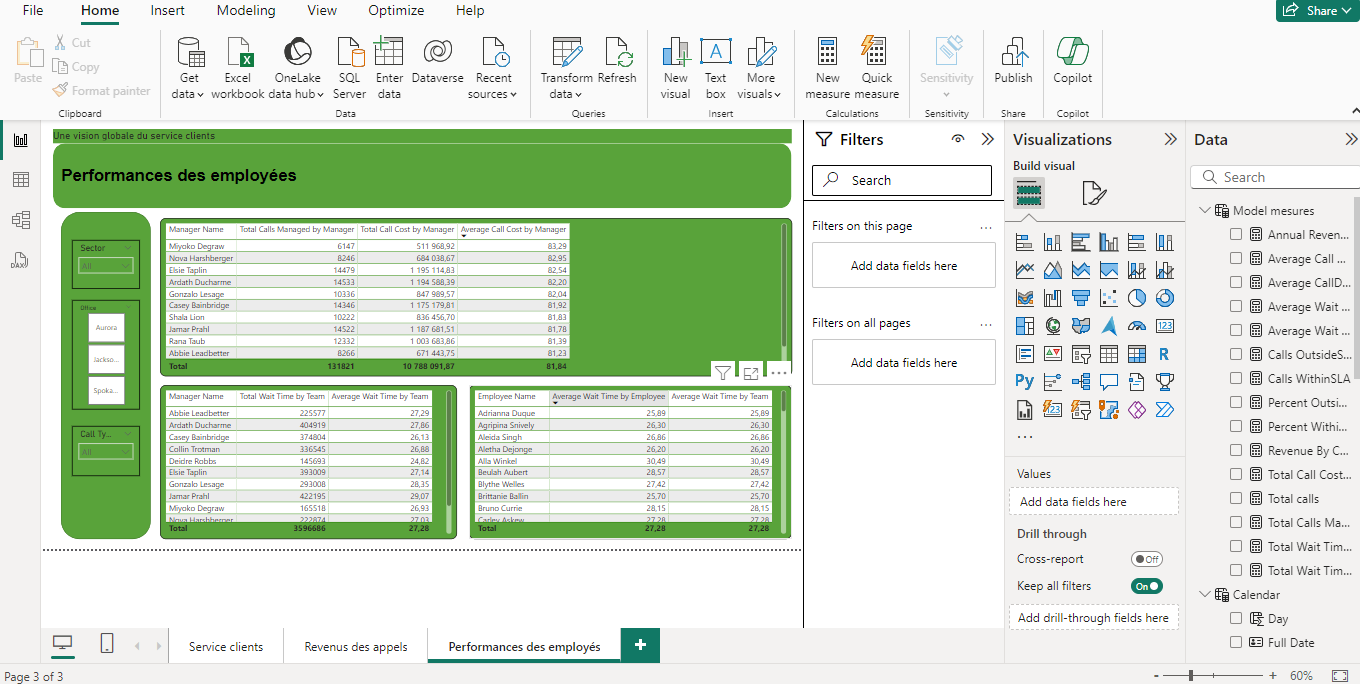

This screenshot's page, from the dashboard's own definition file:
{"tool":"powerbi","page":{"name":"Performances des employés","canvas":[1280,720],"ordinal":2},"visuals":[{"type":"shape","title":"Une vision globale du service clients","box":[20.7,15,1240.5,133.5],"z":0},{"type":"shape","box":[33.5,154.6,150.9,549.6],"z":1000},{"type":"slicer","fields":{"Values":["Employees.Sector"]},"box":[52.2,201.2,113.7,82],"z":2000},{"type":"slicer","fields":{"Values":["Call type.Call Type"]},"box":[52.2,514.2,113.7,83.8],"z":3000},{"type":"tableEx","fields":{"Values":["Employees.Manager Name","Model mesures.Total Calls Managed by Manager","Model mesures.Total Call Cost by Manager","Model mesures.Average Call Cost by Manager"]},"box":[199.4,164,1062,266.4],"z":4000},{"type":"tableEx","fields":{"Values":["Employees.Employee Name","Model mesures.Average Wait Time by Employee","Model mesures.Average Wait Time by Team"]},"box":[719.2,445.3,542.2,259],"z":5000},{"type":"tableEx","fields":{"Values":["Employees.Manager Name","Model mesures.Total Wait Time by Team","Model mesures.Average Wait Time by Team"]},"box":[199.4,445.3,499.3,259],"z":6000},{"type":"slicer","fields":{"Values":["Employees.Office"]},"box":[52.2,301.8,113.7,184.5],"z":7000}]}

Visuals, with their boxes on the page's 1280x720 design canvas (x1, y1, x2, y2). These are canvas units, not pixel positions in the 1360x684 screenshot, which may show the page scaled, cropped or inside an application window:
"Une vision globale du service clients" shape: [x1=21, y1=15, x2=1261, y2=148]
shape: [x1=34, y1=155, x2=184, y2=704]
slicer - Employees.Sector: [x1=52, y1=201, x2=166, y2=283]
slicer - Call type.Call Type: [x1=52, y1=514, x2=166, y2=598]
tableEx - Employees.Manager Name x Model mesures.Total Calls Managed by Manager: [x1=199, y1=164, x2=1261, y2=430]
tableEx - Employees.Employee Name x Model mesures.Average Wait Time by Employee: [x1=719, y1=445, x2=1261, y2=704]
tableEx - Employees.Manager Name x Model mesures.Total Wait Time by Team: [x1=199, y1=445, x2=699, y2=704]
slicer - Employees.Office: [x1=52, y1=302, x2=166, y2=486]
